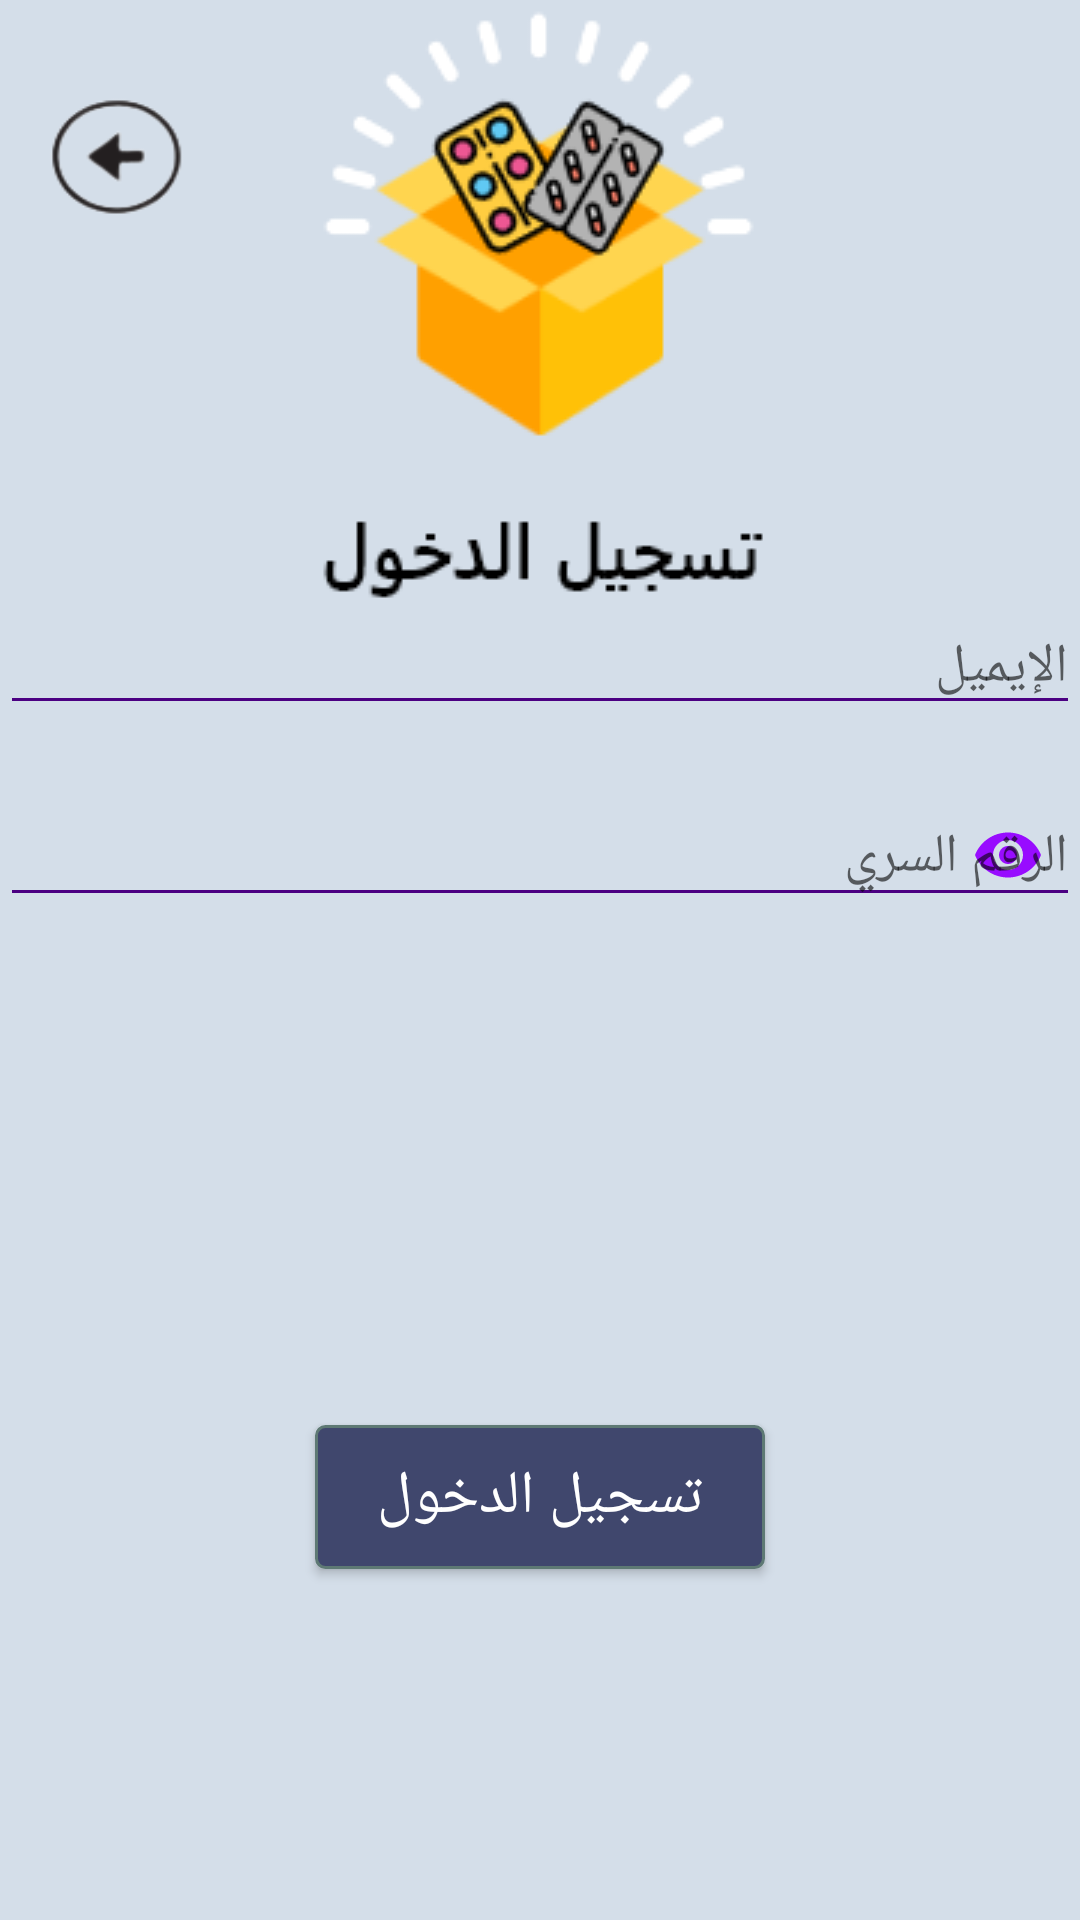

Screen size 1080x1920. Icon name, then its box in pixels as (x1, y1, x2, y2):
backbutton: (52, 100, 182, 214)
